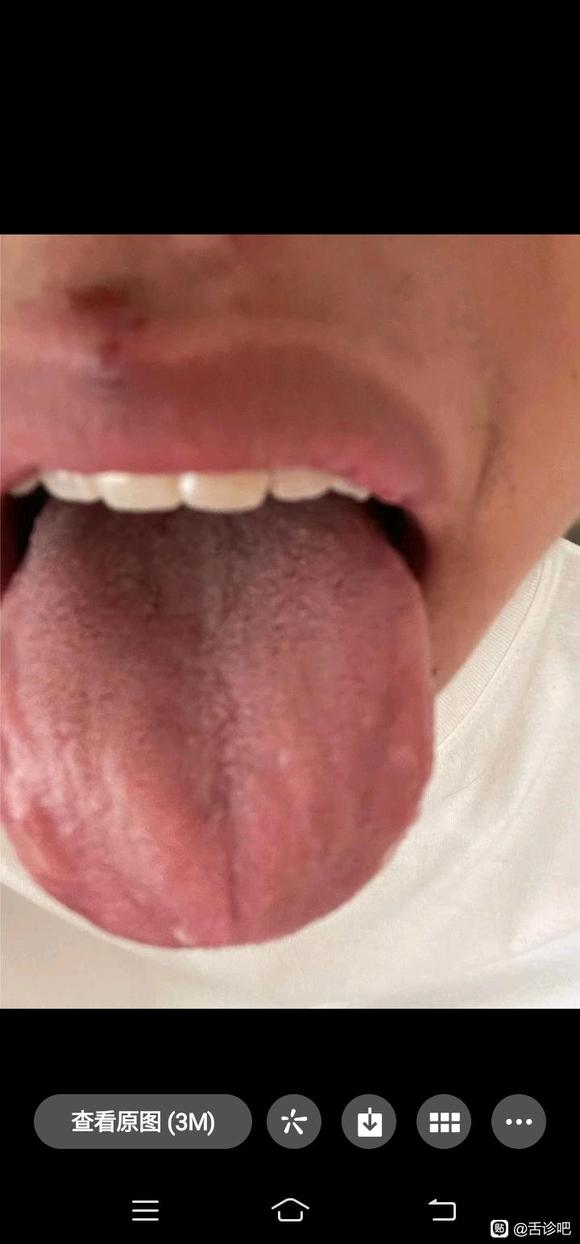hongshe: (1, 496, 433, 949)
liewenshe: (198, 667, 244, 925)
